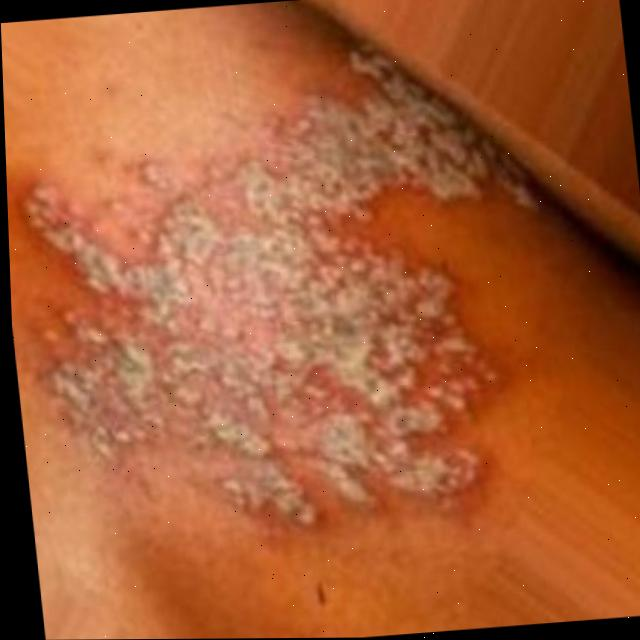Shingles: (15, 73, 504, 513)
